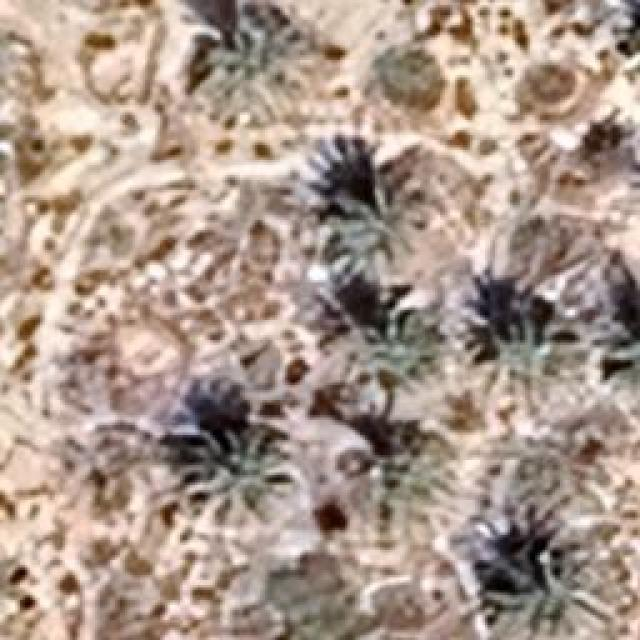PalmTree: (97, 113, 404, 481), (16, 90, 97, 595), (185, 2, 340, 130), (482, 534, 636, 638), (178, 420, 292, 530), (505, 420, 613, 520), (482, 318, 588, 418), (350, 302, 442, 386), (318, 151, 400, 239), (364, 44, 450, 118), (590, 320, 638, 390), (610, 0, 640, 78)
